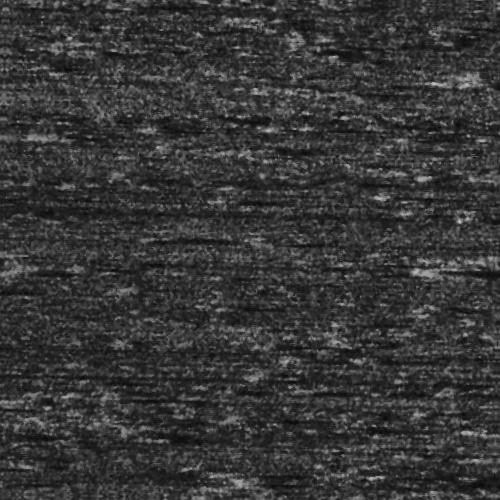object: (361, 254, 496, 277), (424, 208, 497, 219), (0, 498, 48, 500)
shadow: (429, 254, 500, 277), (460, 208, 500, 219), (17, 498, 120, 500)
